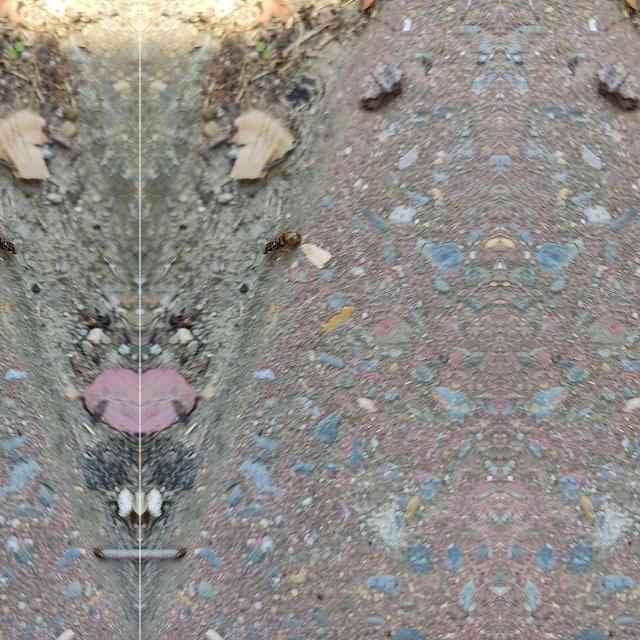Lasius: (252, 222, 306, 258), (358, 79, 414, 109), (586, 79, 640, 109), (0, 222, 26, 258)
